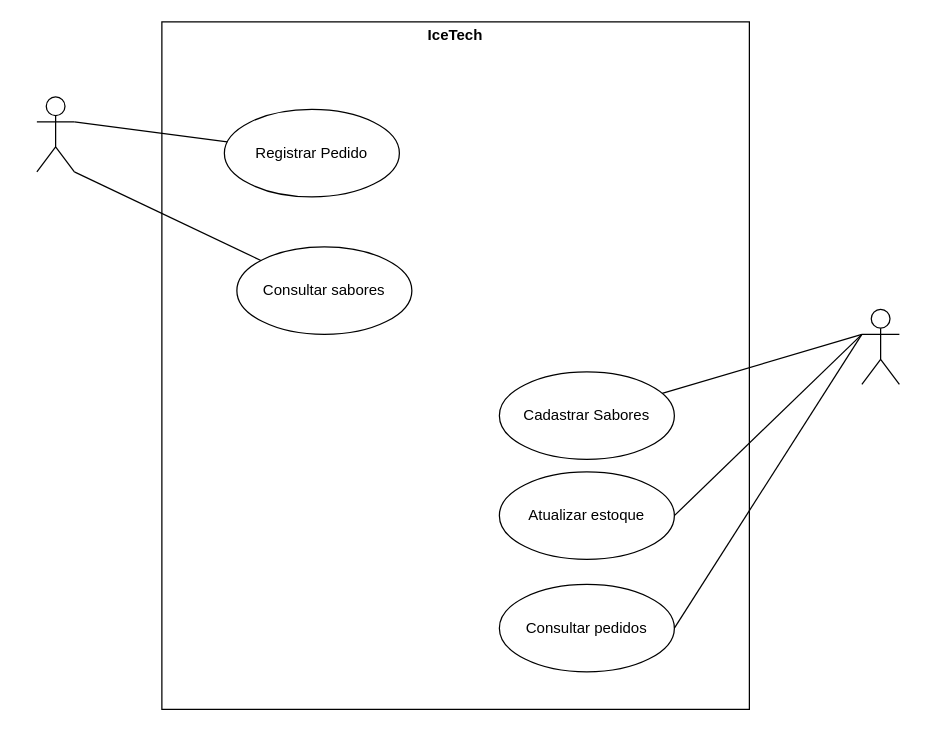
The diagram is 929 pixels wide and 731 high, and some of its shapes have lost their labels. The centre of each missing label's shape, as x and y in pixels:
Atendente: pixel 55 134
Gerente: pixel 880 346
